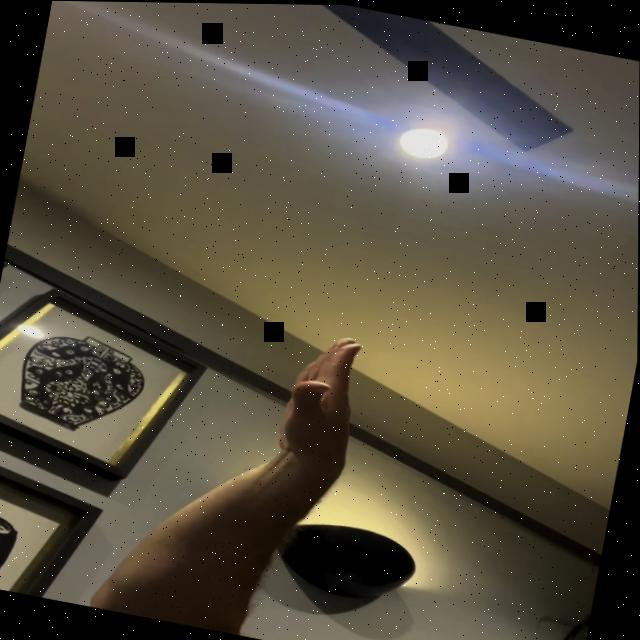Paper: (270, 326, 373, 469)
